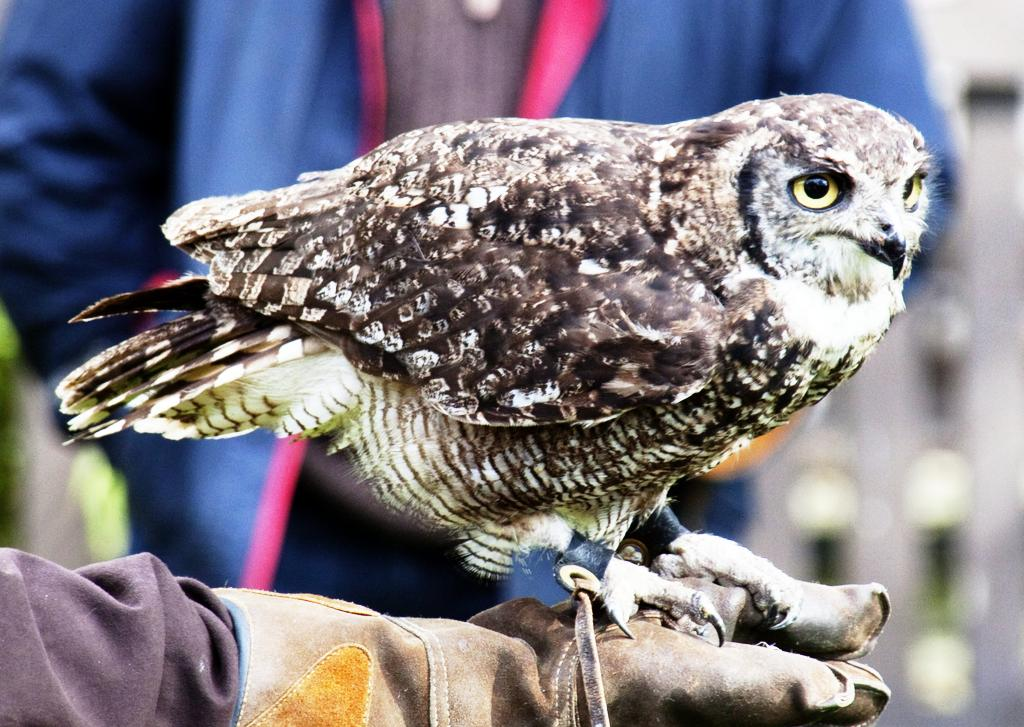Owl: (56, 96, 930, 622)
